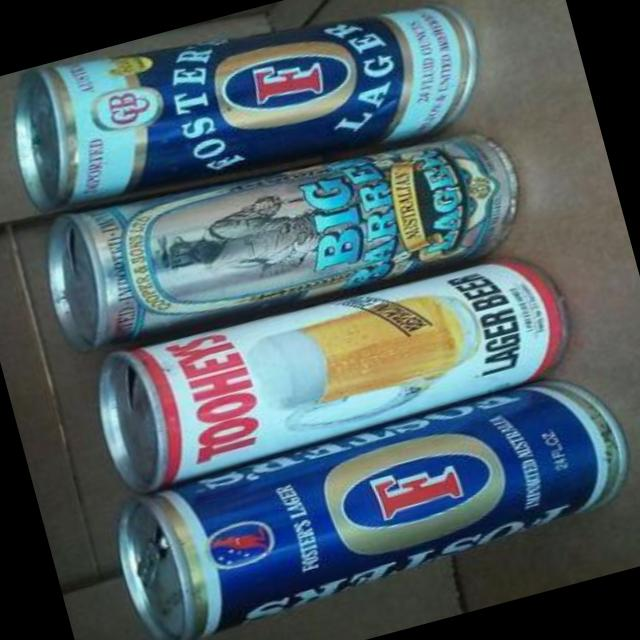metal: (116, 383, 624, 640), (99, 263, 564, 491), (47, 136, 516, 349), (13, 7, 475, 211)
